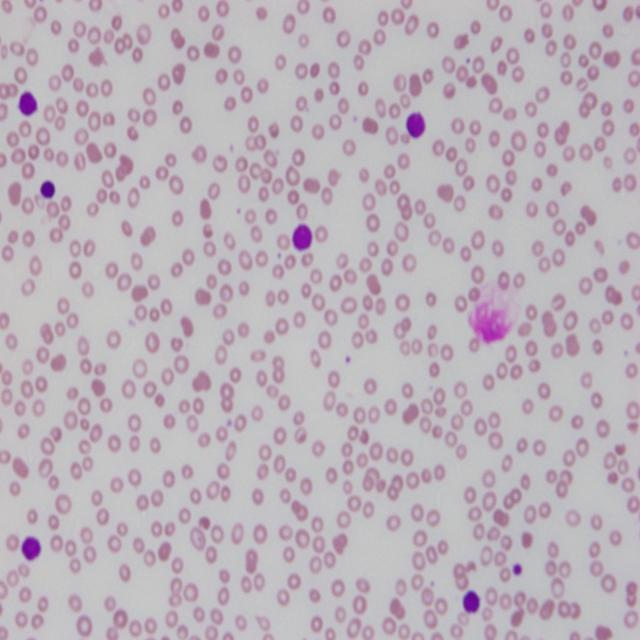cell: (292, 225, 312, 250), (406, 112, 425, 138), (21, 537, 41, 560), (19, 92, 38, 116), (462, 590, 480, 613), (40, 180, 55, 198)
